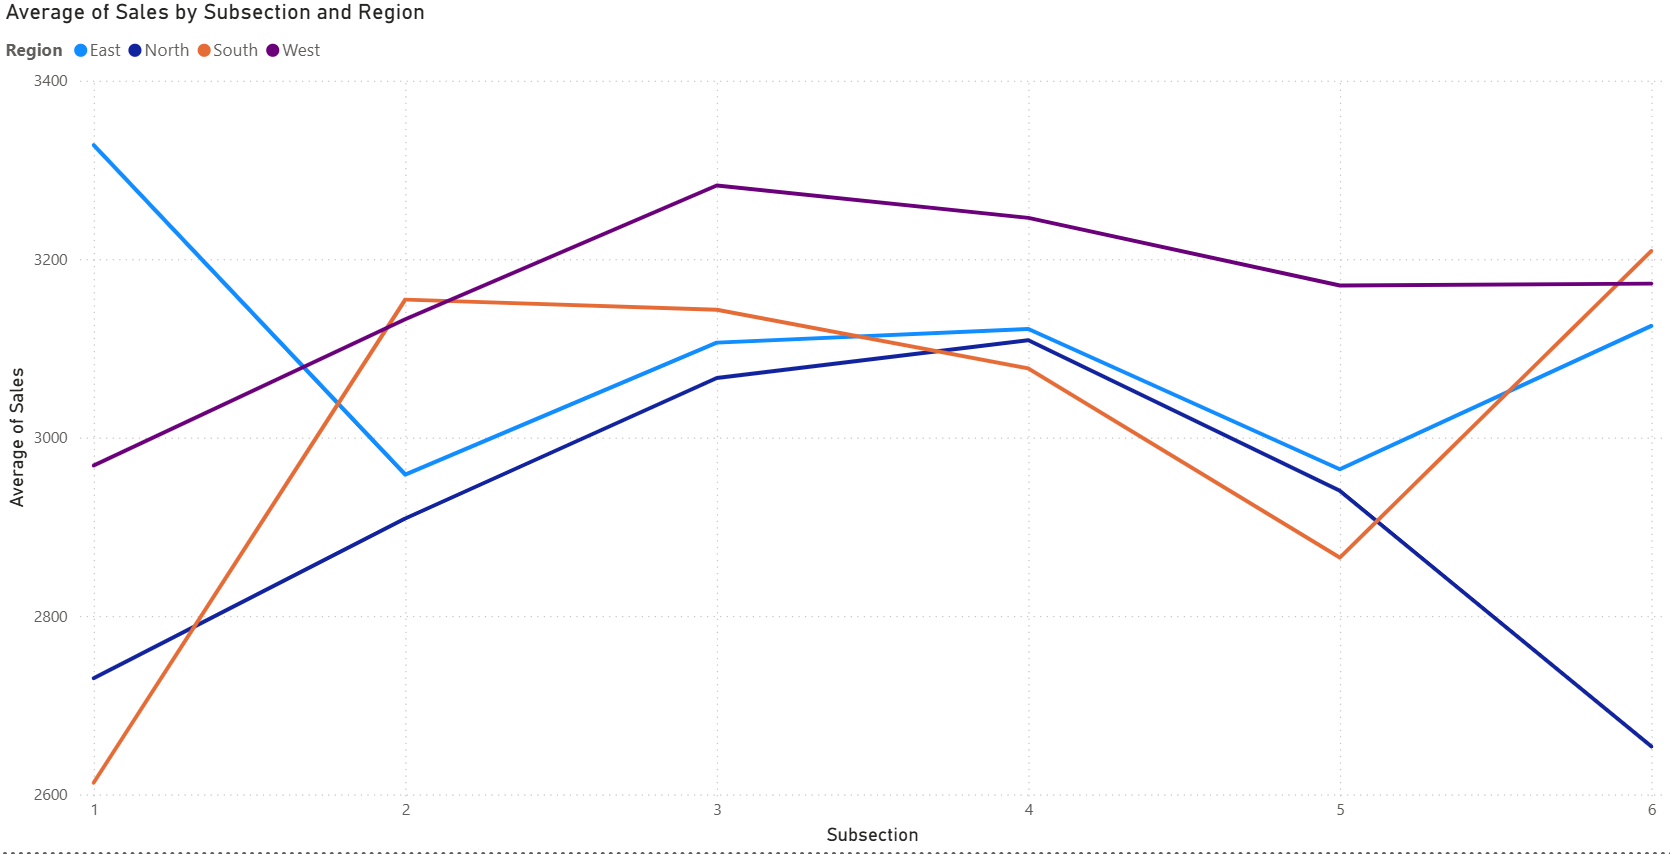

What the dashboard file says about the page in this screenshot:
{"tool":"powerbi","page":{"name":"Page 5","canvas":[1280,720],"ordinal":4},"visuals":[{"type":"lineChart","fields":{"Series":["ecommerce_added_columns (4).Region"],"Y":["Avg(ecommerce_added_columns (4).Sales)"],"Category":["ecommerce_added_columns (4).Subsection"]},"box":[0,67.4,1280,652.2],"z":0}]}

Visuals, with their boxes on the page's 1280x720 design canvas (x1, y1, x2, y2). These are canvas units, not pixel positions in the 1670x854 screenshot, which may show the page scaled, cropped or inside an application window:
lineChart - ecommerce_added_columns (4).Region x Avg(ecommerce_added_columns (4).Sales): (x1=0, y1=67, x2=1280, y2=720)
